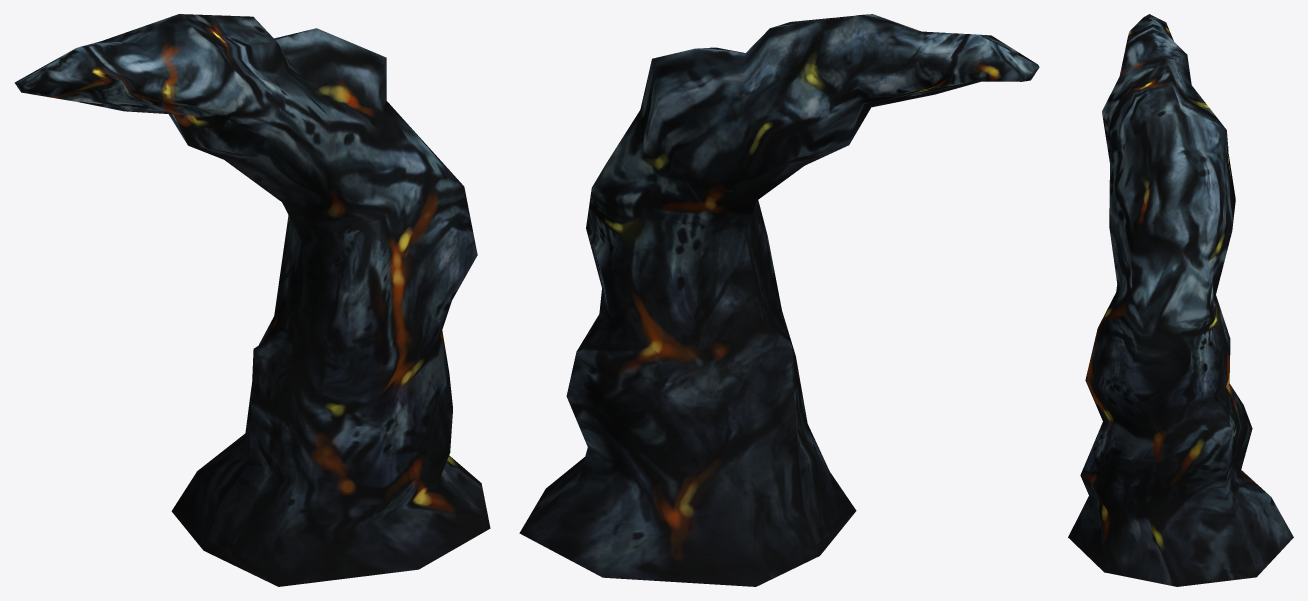
File: STR_ArchBoulder_Spike02.FBX
The picture shows the model from 3 angles, left to right: view 1: azimuth 30°, elevation 25°; view 2: azimuth 150°, elevation 25°; view 3: azimuth 270°, elevation 25°; orthographic projection. The views are drawn at different scales.
Parts seen in each view (by area): view 1: STR_ArchBoulder_Spike02; view 2: STR_ArchBoulder_Spike02; view 3: STR_ArchBoulder_Spike02.
Part boxes in pixels (x1,y1,x2,y2): STR_ArchBoulder_Spike02: (14, 14, 490, 586); STR_ArchBoulder_Spike02: (519, 14, 1039, 586); STR_ArchBoulder_Spike02: (1068, 14, 1293, 586).
Bounding box in the file's own units: 785 × 858 × 426.
